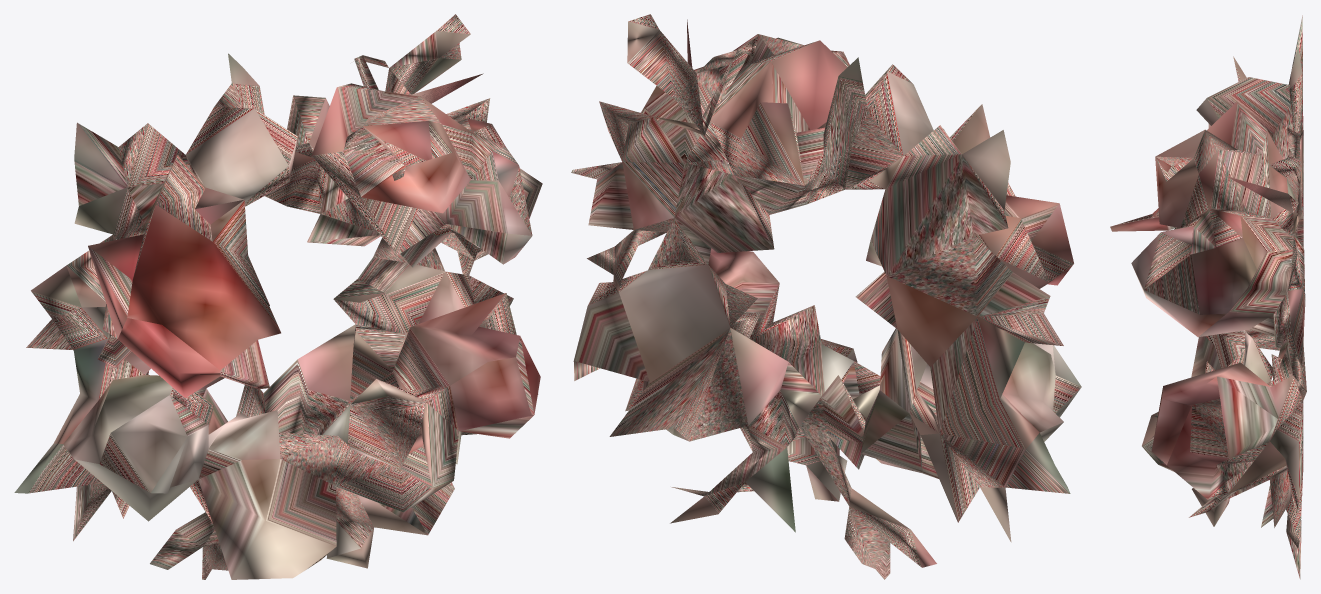
3 views of the same model, side by side, from view 1: azimuth 30°, elevation 25°; view 2: azimuth 150°, elevation 25°; view 3: azimuth 270°, elevation 25° (orthographic). The views are drawn at different scales.
Parts seen in each view (by area): view 1: Rose-Frame-10-03; view 2: Rose-Frame-10-03; view 3: Rose-Frame-10-03.
Part boxes in pixels (left/top/right/bottom): Rose-Frame-10-03: left=14, top=14, right=542, bottom=579; Rose-Frame-10-03: left=571, top=14, right=1081, bottom=579; Rose-Frame-10-03: left=1110, top=15, right=1306, bottom=579.
Size of the model in its own units: 0.2949 by 0.2852 by 0.1115.
Materials: 1 (1 with a texture image).
